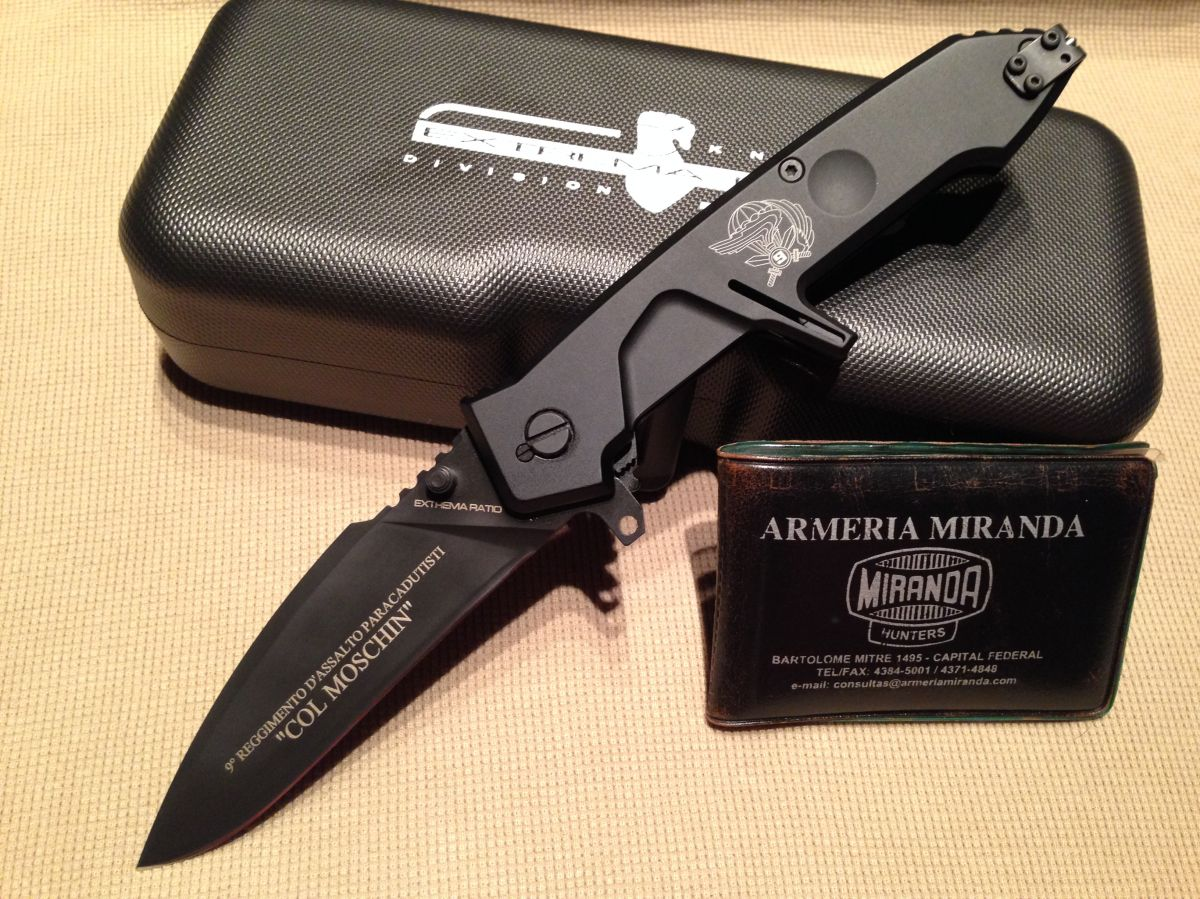knife: (125, 398, 587, 882)
